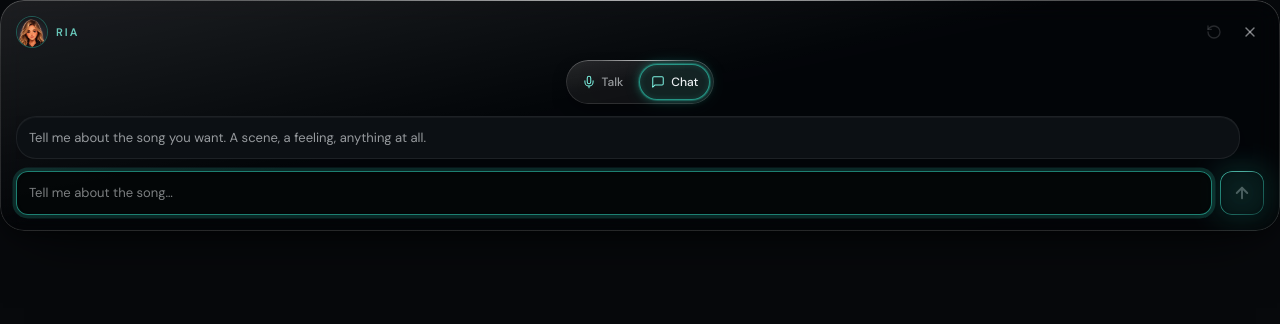
Scenario: ChatPanel › sends on Enter and shows the reply
Type "a rainy drive" into the text box named "Message the assistant" at (614, 193), box [16,171,1212,215]
Then press Enter
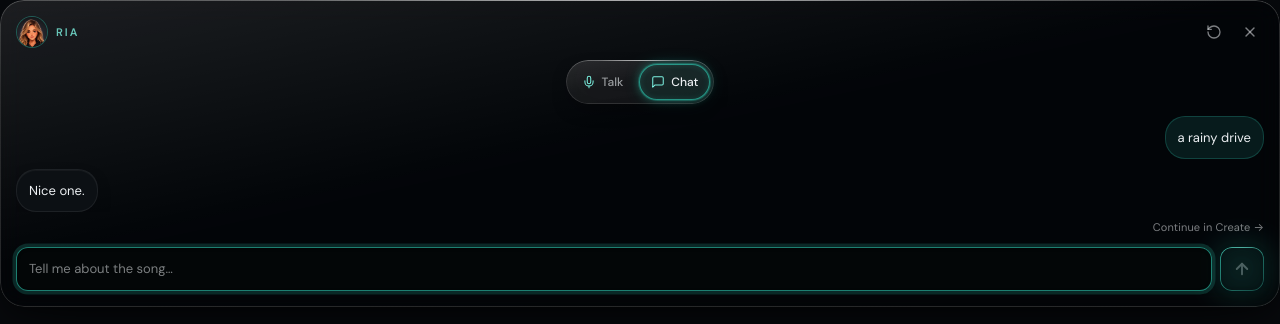
Expected: the text "Nice one." is shown, [16,169,98,212]
